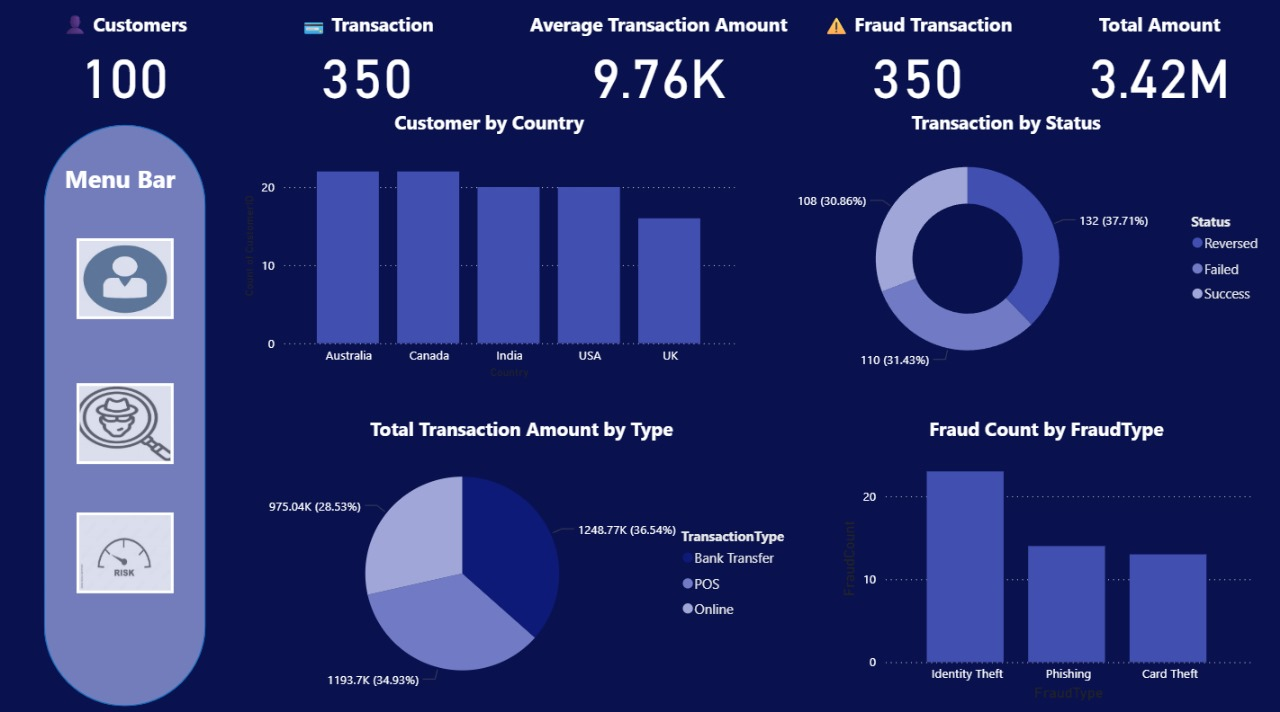

The dashboard page shown, as its layout file describes it:
{"tool":"powerbi","page":{"name":"Overview Dashboard","canvas":[1280,720],"ordinal":0},"visuals":[{"type":"card","title":"👤 Customers","fields":{"Values":["CountNonNull(project customers.CustomerID)"]},"box":[16,16,224,96],"z":0},{"type":"columnChart","title":"Customer by Country","fields":{"Category":["project customers.Country"],"Y":["CountNonNull(project customers.CustomerID)"]},"box":[240,112,496,272],"z":1000},{"type":"card","title":"💳 Transaction","fields":{"Values":["CountNonNull(project transactions.TransactionID)"]},"box":[272,16,192,96],"z":2000},{"type":"pieChart","title":"Total Transaction Amount by Type","fields":{"Y":["Sum(project transactions.Amount)"],"Category":["project transactions.TransactionType"]},"box":[240,416,560,288],"z":3000},{"type":"donutChart","title":"Transaction by Status","fields":{"Category":["project transactions.Status"],"Y":["CountNonNull(project transactions.Status)"]},"box":[736,112,528,272],"z":4000},{"type":"card","title":"Average Transaction Amount","fields":{"Values":["Avg(project transactions.Amount)"]},"box":[512,16,288,96],"z":5000},{"type":"card","title":"⚠️ Fraud Transaction","fields":{"Values":["CountNonNull(project fraudflags.FraudType)"]},"box":[800,16,224,96],"z":6000},{"type":"card","title":"Total Amount","fields":{"Values":["Sum(project transactions.Amount)"]},"box":[1040,16,224,96],"z":7000},{"type":"columnChart","title":"Fraud Count by FraudType","fields":{"Category":["project fraudflags.FraudType"],"Y":["project customers.FraudCount"]},"box":[832,416,416,288],"z":8000},{"type":"shape","box":[48,128,160,576],"z":9000},{"type":"actionButton","box":[80,240,96,80],"z":10000},{"type":"actionButton","box":[80,384,96,80],"z":11000},{"type":"actionButton","box":[80,512,96,80],"z":12000},{"type":"textbox","box":[64,160,128,48],"z":13000}]}

Visuals, with their boxes in screenshot pixels (x1, y1, x2, y2), scaled from the page's 1280x720 canvas onto the 1280x712 screenshot:
"👤 Customers" card: bbox=[16, 16, 240, 111]
"Customer by Country" columnChart: bbox=[240, 111, 736, 380]
"💳 Transaction" card: bbox=[272, 16, 464, 111]
"Total Transaction Amount by Type" pieChart: bbox=[240, 411, 800, 696]
"Transaction by Status" donutChart: bbox=[736, 111, 1264, 380]
"Average Transaction Amount" card: bbox=[512, 16, 800, 111]
"⚠️ Fraud Transaction" card: bbox=[800, 16, 1024, 111]
"Total Amount" card: bbox=[1040, 16, 1264, 111]
"Fraud Count by FraudType" columnChart: bbox=[832, 411, 1248, 696]
shape: bbox=[48, 127, 208, 696]
actionButton: bbox=[80, 237, 176, 316]
actionButton: bbox=[80, 380, 176, 459]
actionButton: bbox=[80, 506, 176, 585]
textbox: bbox=[64, 158, 192, 206]
